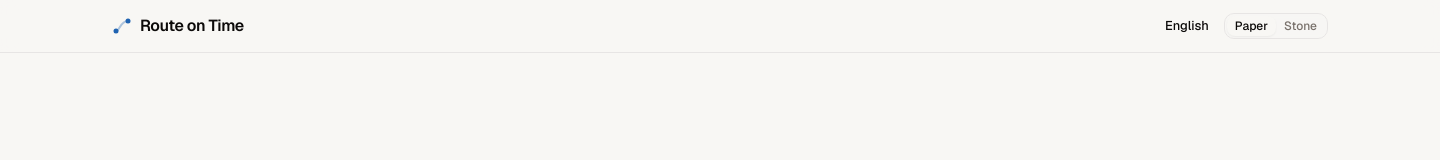
StartScreen › renders the page again in the chosen language
Click the button "English" at (1187,26), box [1154,12,1220,40]
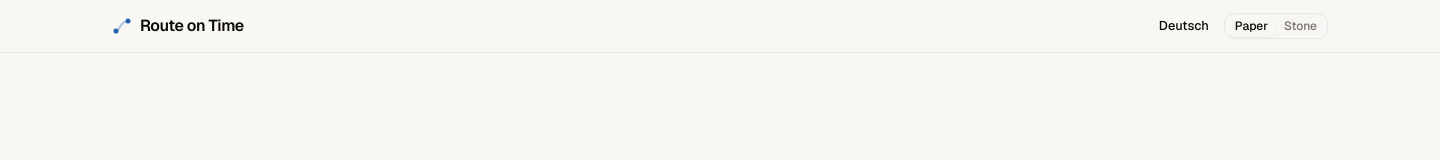
Expected: the button "Deutsch" is shown, [1148,12,1220,40]
